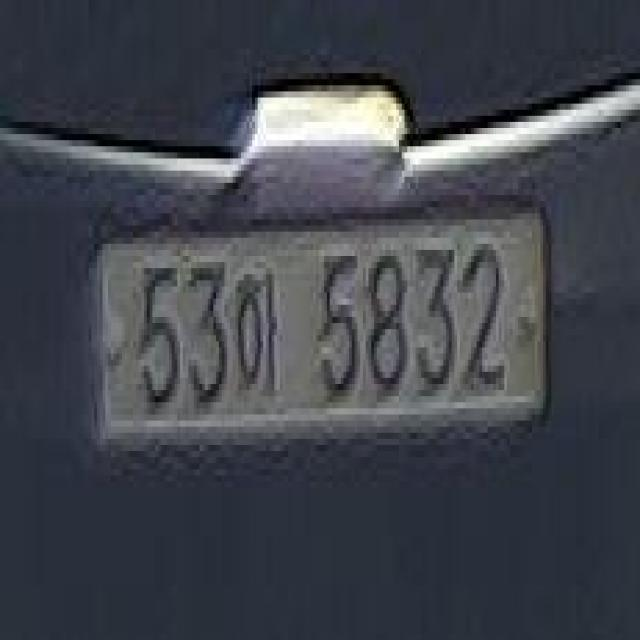2: (460, 237, 510, 408)
3: (185, 252, 230, 407), (413, 241, 455, 406)
5: (314, 240, 362, 406), (136, 259, 180, 411)
8: (366, 240, 406, 402)
ha: (235, 256, 279, 406)
license_plate: (86, 213, 550, 426)
